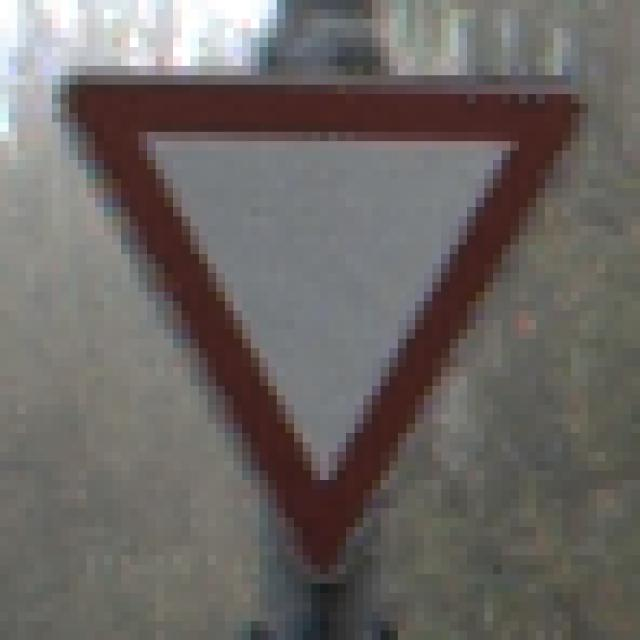Give Way: (62, 67, 589, 584)
